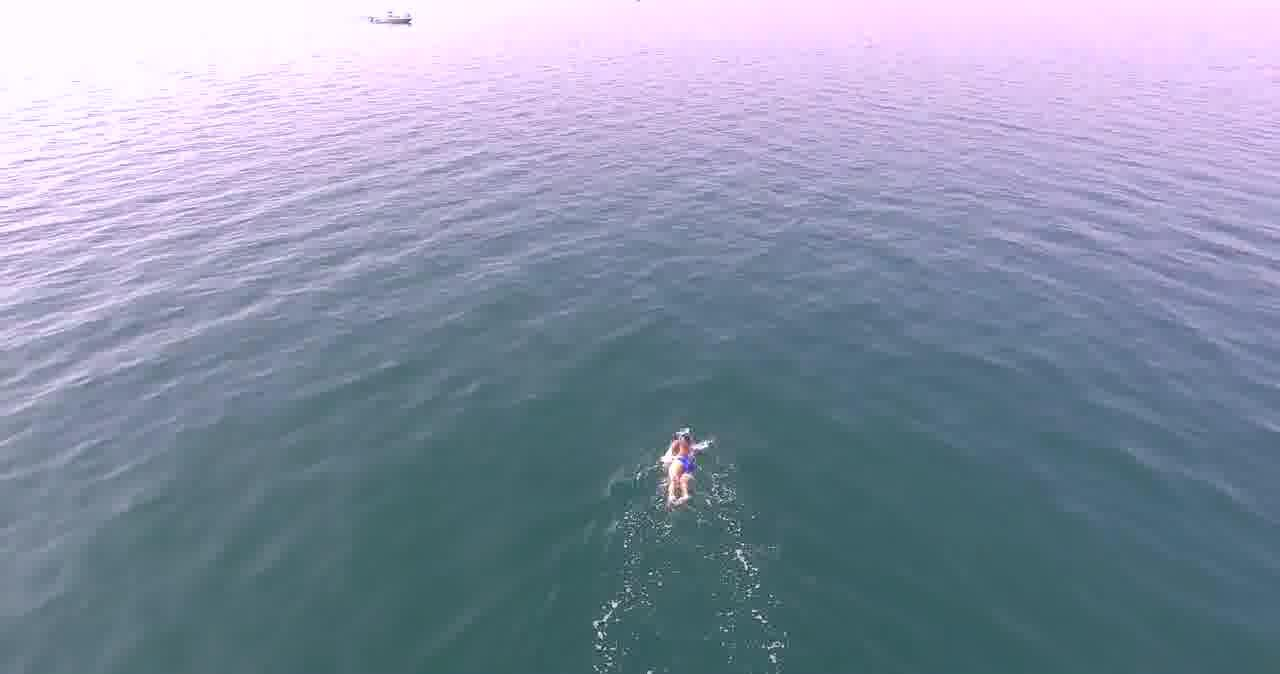swimmer: (657, 426, 706, 516)
